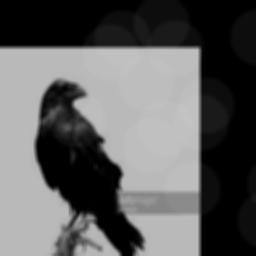Crow: (34, 77, 145, 256)
